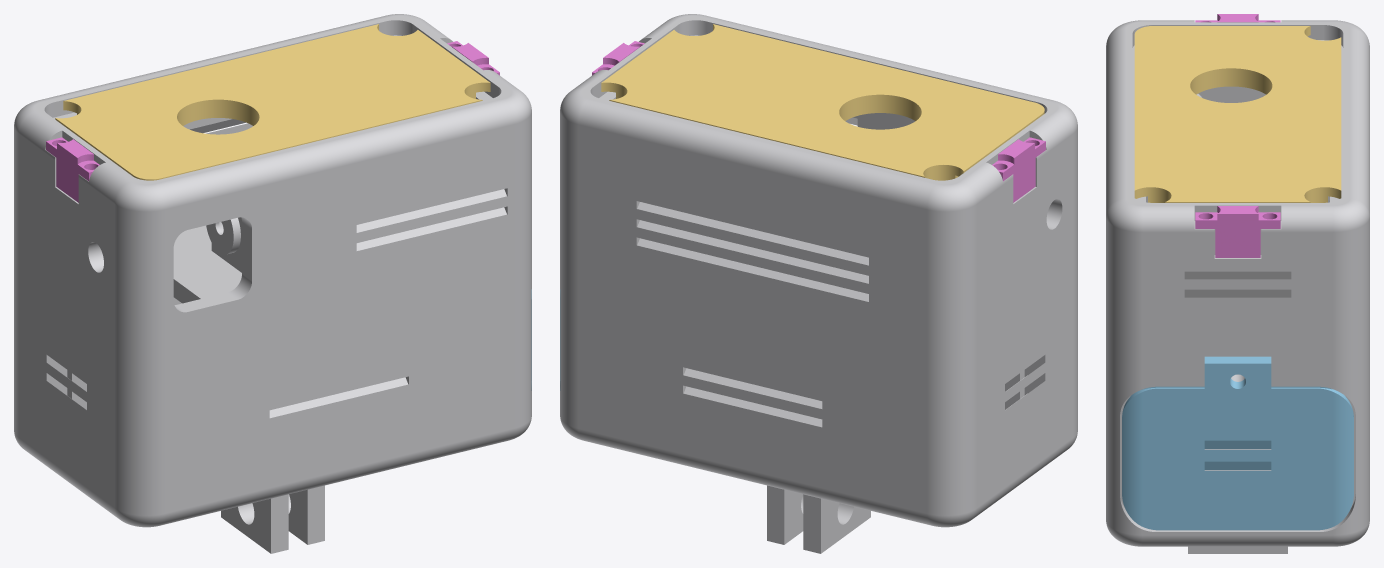
Rendered from sender850.glb.
3 renders of one model, left to right at view 1: azimuth 30°, elevation 25°; view 2: azimuth 150°, elevation 25°; view 3: azimuth 270°, elevation 25°, orthographic.
Parts seen in each view (by area): view 1: =>[0:1:1:3], =>[0:1:1:5], =>[0:1:1:10]; view 2: =>[0:1:1:3], =>[0:1:1:5], =>[0:1:1:10]; view 3: =>[0:1:1:3], =>[0:1:1:5], =>[0:1:1:4], =>[0:1:1:11], =>[0:1:1:10].
Boxes of the visible parts, bbox=[...] form: =>[0:1:1:3]: bbox=[14, 14, 531, 553]; =>[0:1:1:5]: bbox=[55, 24, 490, 180]; =>[0:1:1:10]: bbox=[46, 137, 99, 202]; =>[0:1:1:3]: bbox=[560, 14, 1077, 553]; =>[0:1:1:5]: bbox=[601, 24, 1044, 180]; =>[0:1:1:10]: bbox=[992, 137, 1045, 202]; =>[0:1:1:3]: bbox=[1106, 20, 1369, 553]; =>[0:1:1:5]: bbox=[1134, 26, 1341, 202]; =>[0:1:1:4]: bbox=[1122, 356, 1353, 530]; =>[0:1:1:11]: bbox=[1195, 206, 1280, 257]; =>[0:1:1:10]: bbox=[1195, 14, 1280, 22].
Bounding box in the file's own units: 0.0735 × 0.0705 × 0.0395.
